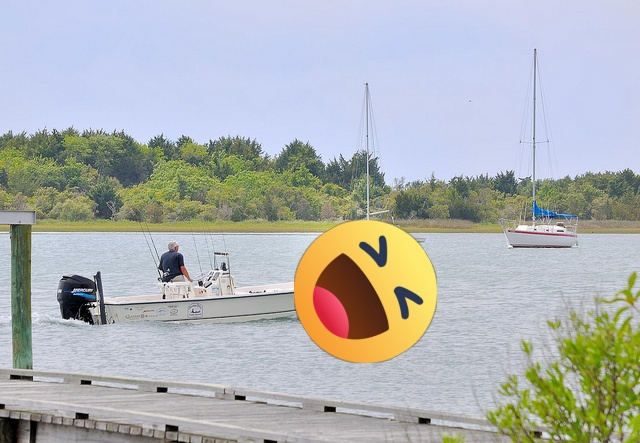haha: (294, 220, 437, 363)
